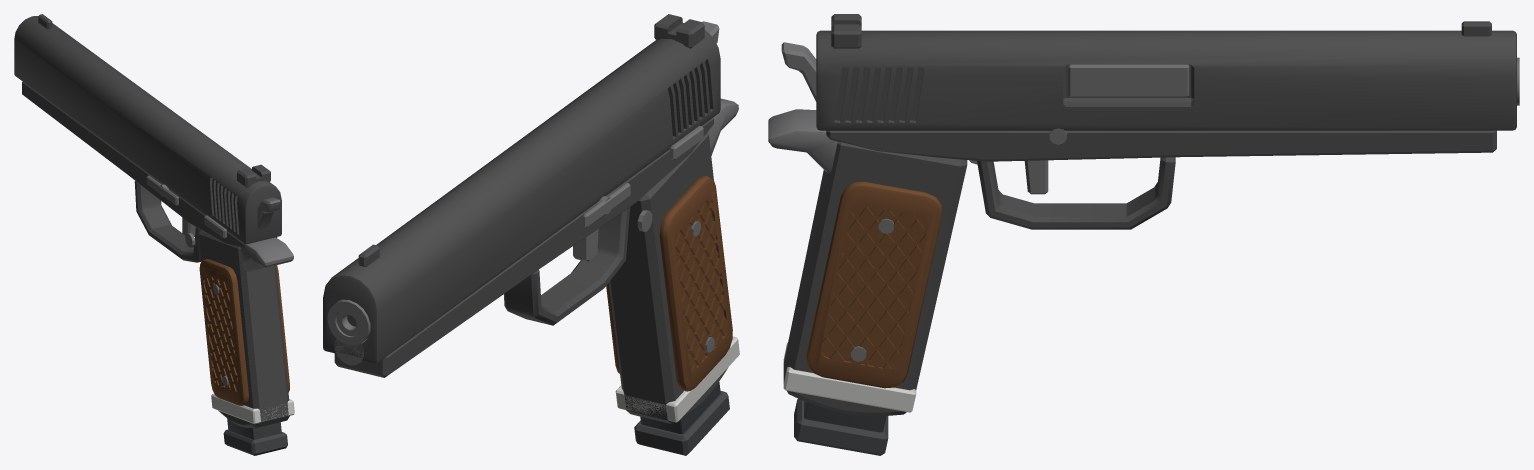
3 renders of one model, left to right at view 1: azimuth 30°, elevation 25°; view 2: azimuth 150°, elevation 25°; view 3: azimuth 270°, elevation 25°, orthographic. The views are drawn at different scales.
Visible parts, largest first — view 1: Slide, Body, Wood, Metal, Mag, Tape; view 2: Slide, Body, Wood, Metal, Mag, Tape; view 3: Slide, Body, Wood, Metal, Mag, Tape.
Part boxes in pixels (box(x1,y1,x2,y2)): Slide: box(14, 14, 281, 244); Body: box(22, 81, 289, 428); Wood: box(199, 259, 289, 405); Metal: box(146, 175, 293, 386); Mag: box(223, 418, 287, 455); Tape: box(211, 393, 294, 424); Slide: box(323, 14, 720, 362); Body: box(334, 118, 728, 424); Wood: box(606, 175, 732, 391); Metal: box(327, 21, 738, 365); Mag: box(634, 382, 729, 455); Tape: box(615, 336, 739, 422); Slide: box(816, 14, 1516, 130); Body: box(783, 130, 1496, 415); Wood: box(806, 181, 942, 388); Metal: box(768, 42, 1519, 361); Mag: box(794, 398, 888, 455); Tape: box(783, 342, 916, 412).
Bounding box in the file's own units: 0.174 × 0.924 × 1.49.
